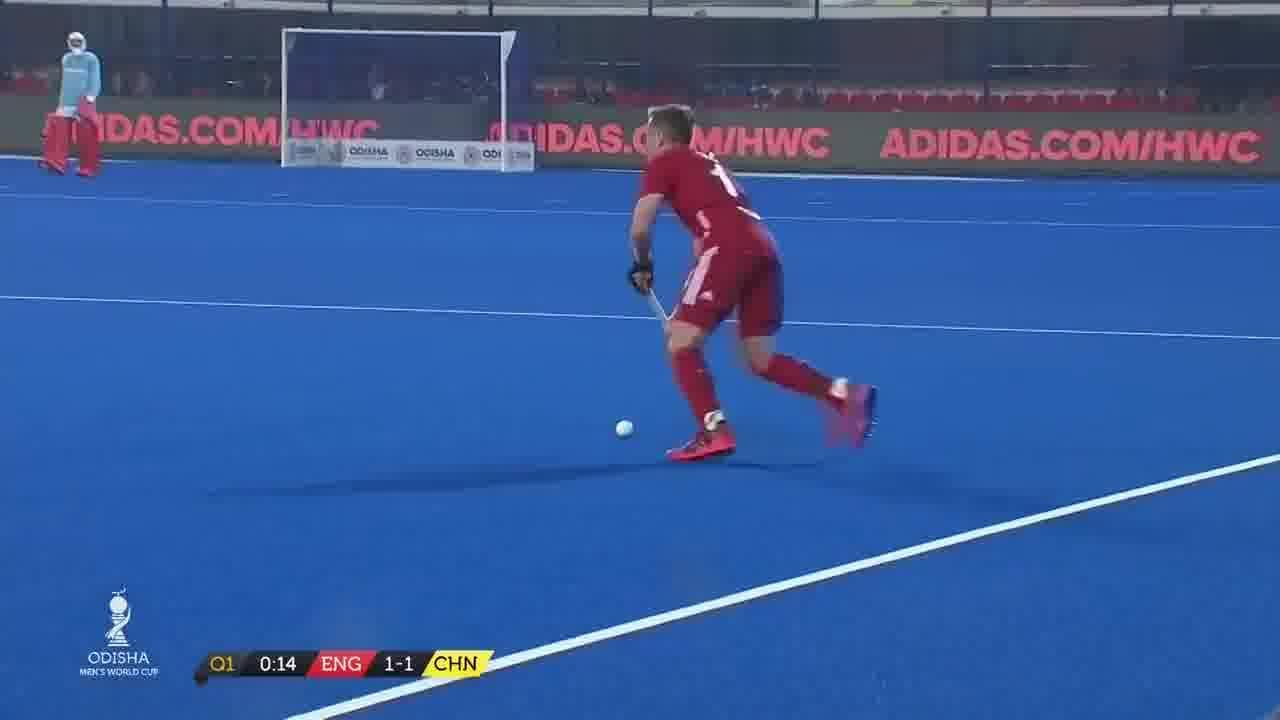ball: (613, 415, 637, 448)
